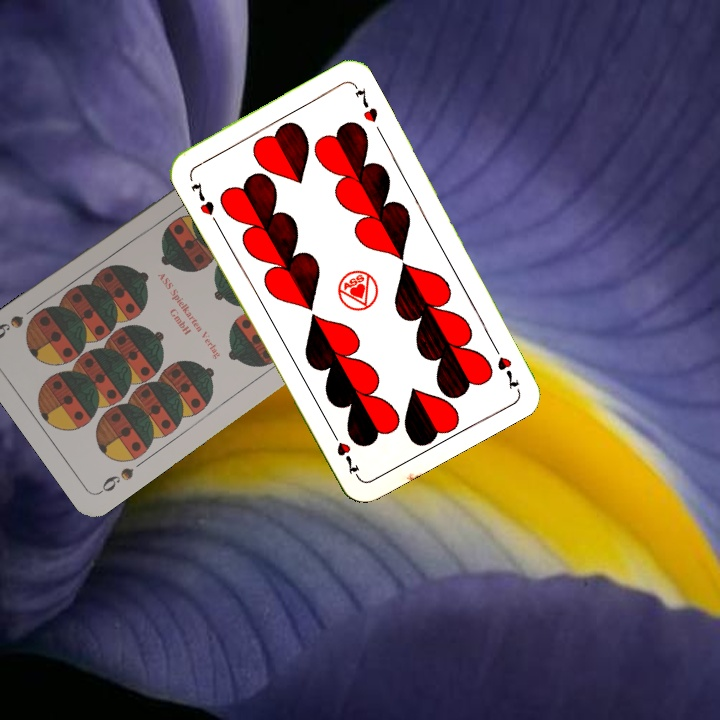H7: (487, 338, 522, 392), (186, 179, 217, 218)
S9: (95, 463, 137, 497)
